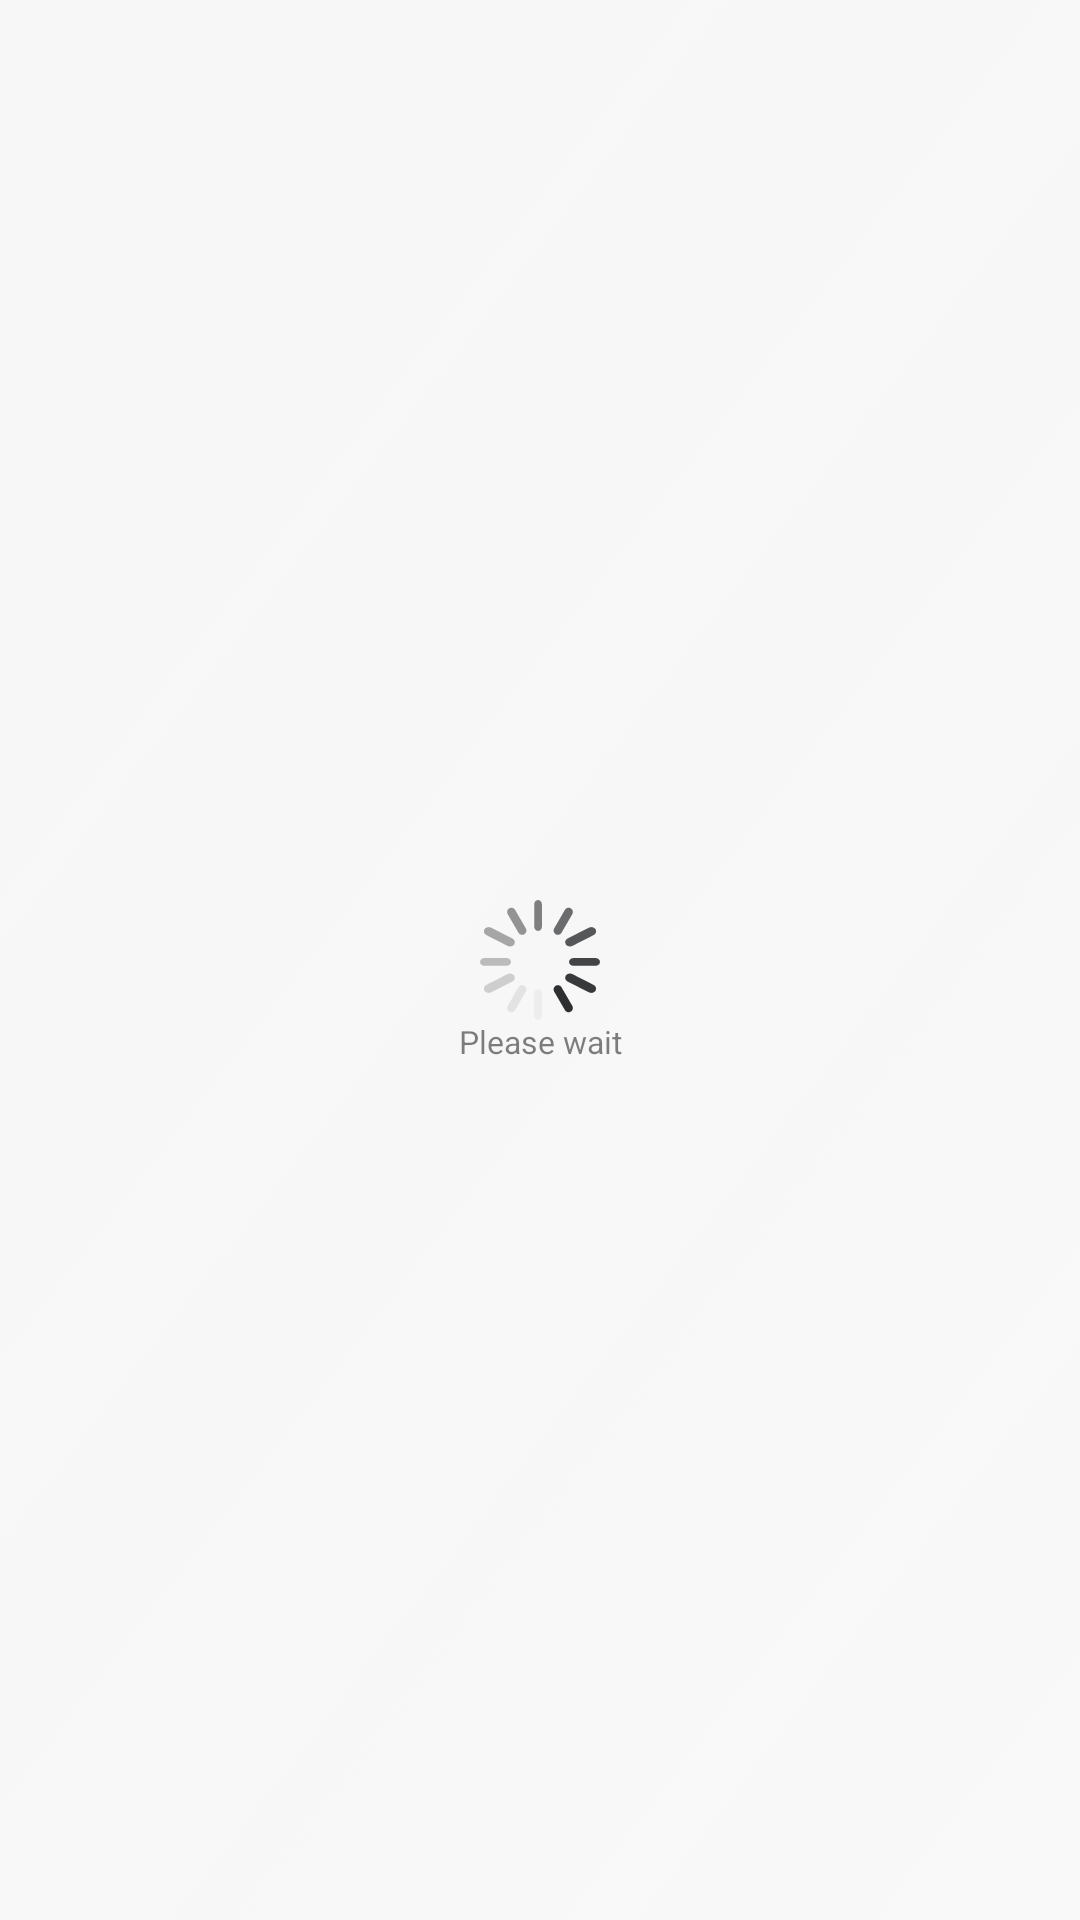

Icons on this 1080 x 1920 Android screen, each with its box as (x1, y1, x2, y2):
loading: (480, 900, 600, 1013)
